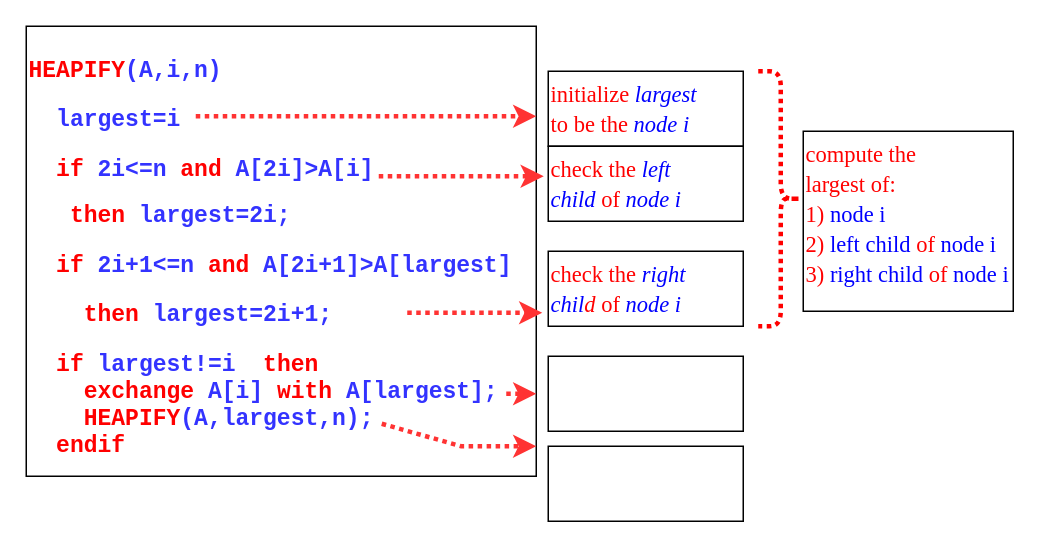
Image size: 1040x548. Some labels were removed from this diagram. Here are the shapes that lost their labels. From the top down, the centre of each, then its label:
At (645,393): "exchange the largest of the 3 with node i".
At (645,483): "recursive call on the subtree".
